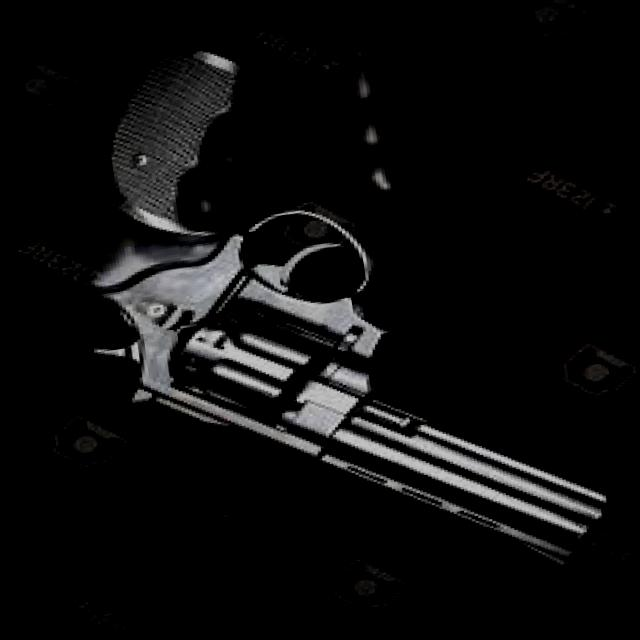handgun: (36, 0, 631, 639)
